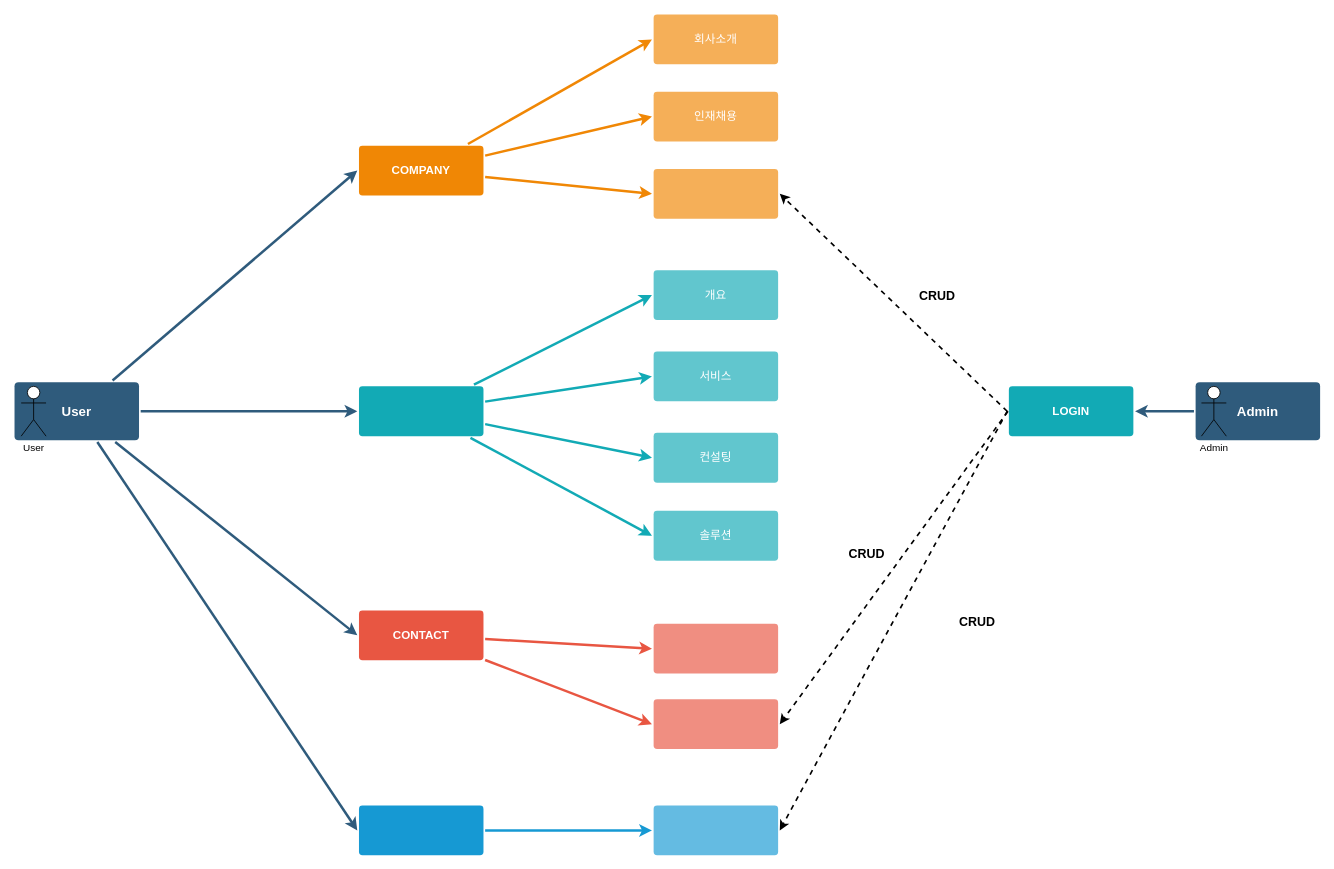
This 1334x869 diagram has some shape labels left out. Each missing label, with the centre of its shape:
"BUSINESS" goes at point (421, 411).
"PROJECT" goes at point (421, 830).
"공지사항" goes at point (715, 193).
"문의사항" goes at point (715, 648).
"문의사항 내용" goes at point (715, 724).
"프로젝트 실적" goes at point (715, 830).
